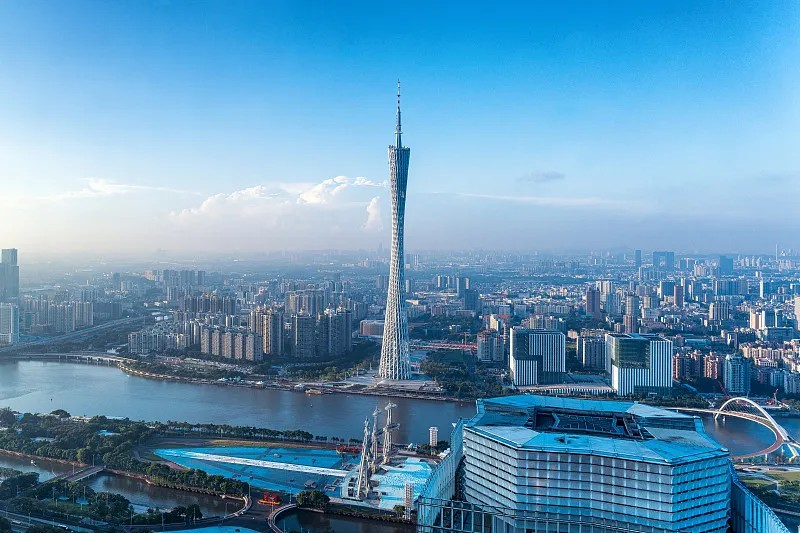Canton: (377, 77, 415, 381)
